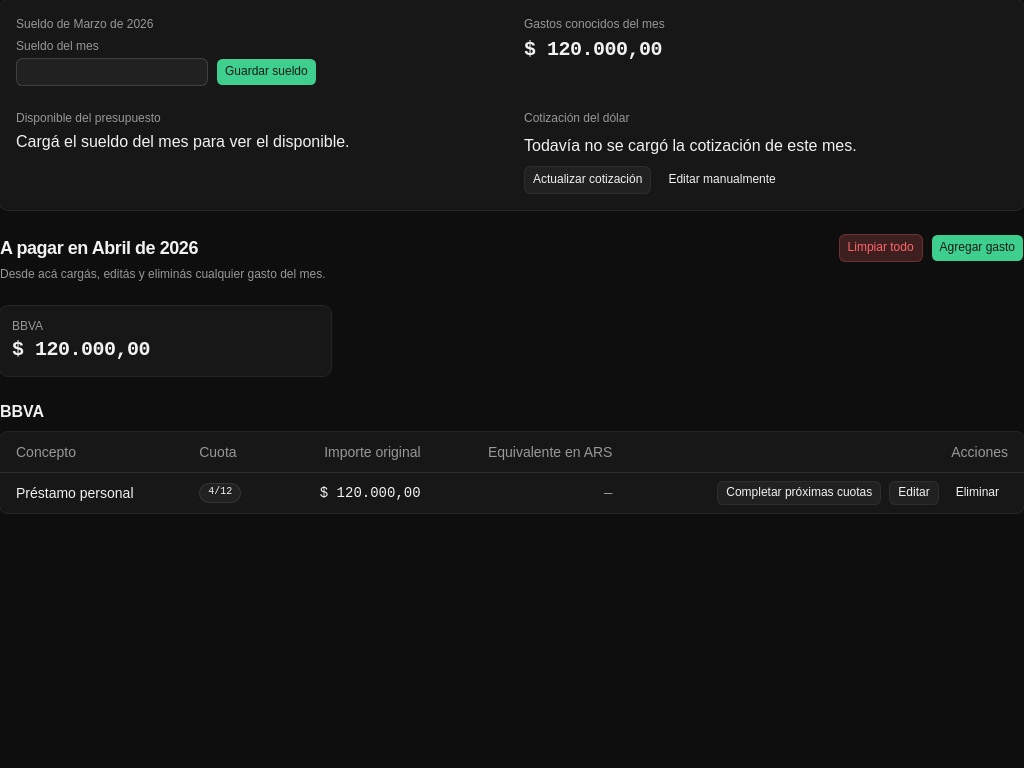
préstamos desde Presupuesto › no guarda el lote si todas las cuotas quedaron vacías
Click the button "Completar próximas cuotas" at (799, 492), box [717, 480, 881, 504]
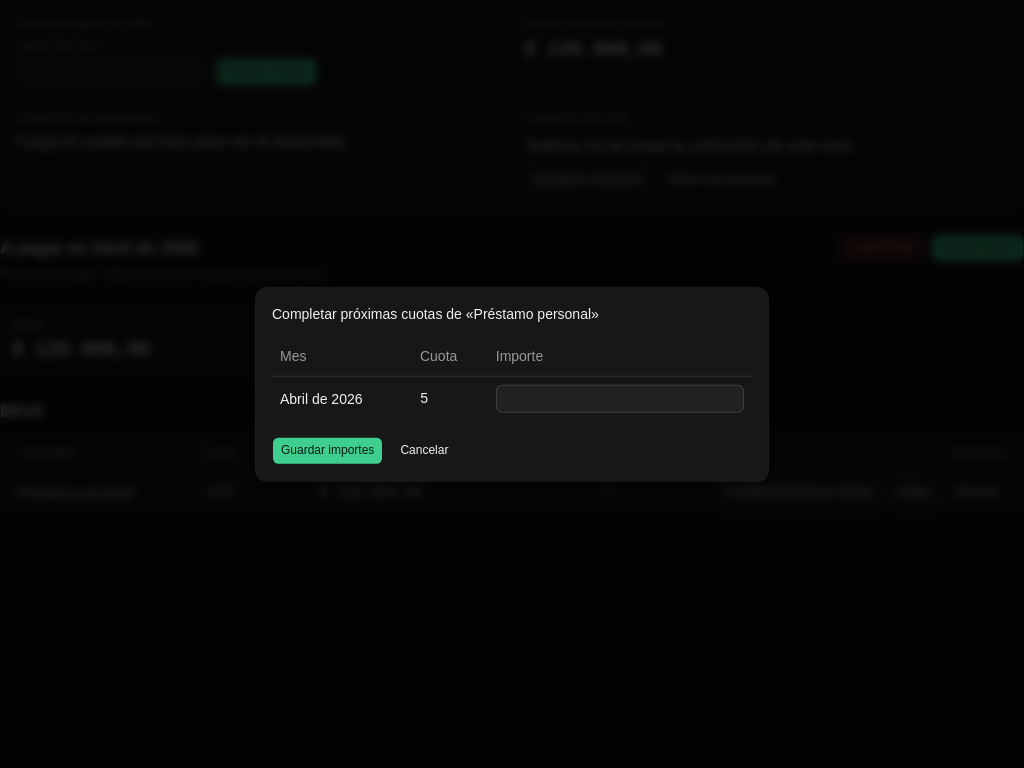
Click the button "Guardar importes" at (328, 450), box [272, 436, 383, 464]
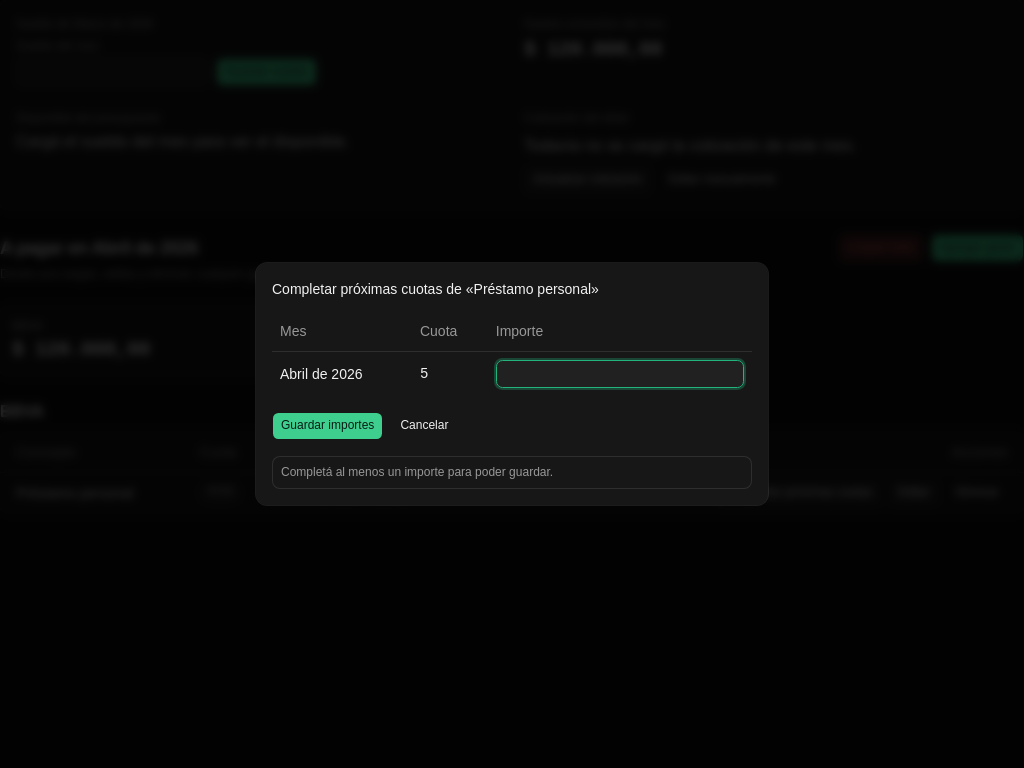
Check: the text "Completá al menos un importe para poder guardar." is shown, box [281, 464, 553, 478]
